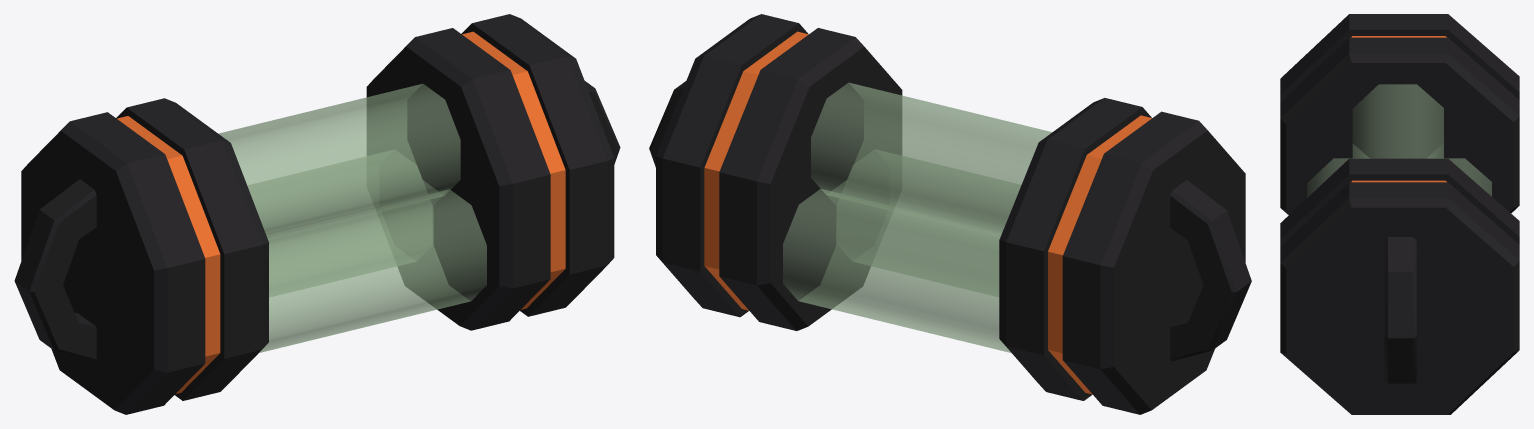
Rendered from Medkit_Medium.fbx.
3 views of the same model, side by side, from view 1: azimuth 30°, elevation 25°; view 2: azimuth 150°, elevation 25°; view 3: azimuth 270°, elevation 25° (orthographic). The views are drawn at different scales.
Visible parts, largest first — view 1: Medkit_Medium; view 2: Medkit_Medium; view 3: Medkit_Medium.
Part boxes in pixels (box(x1,y1,x2,y2)): Medkit_Medium: box(14, 14, 620, 414); Medkit_Medium: box(649, 14, 1251, 414); Medkit_Medium: box(1280, 14, 1519, 414).
Size of the model in its own units: 148 by 60.37 by 60.37.
